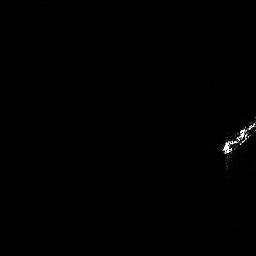ship: (219, 118, 256, 157)
